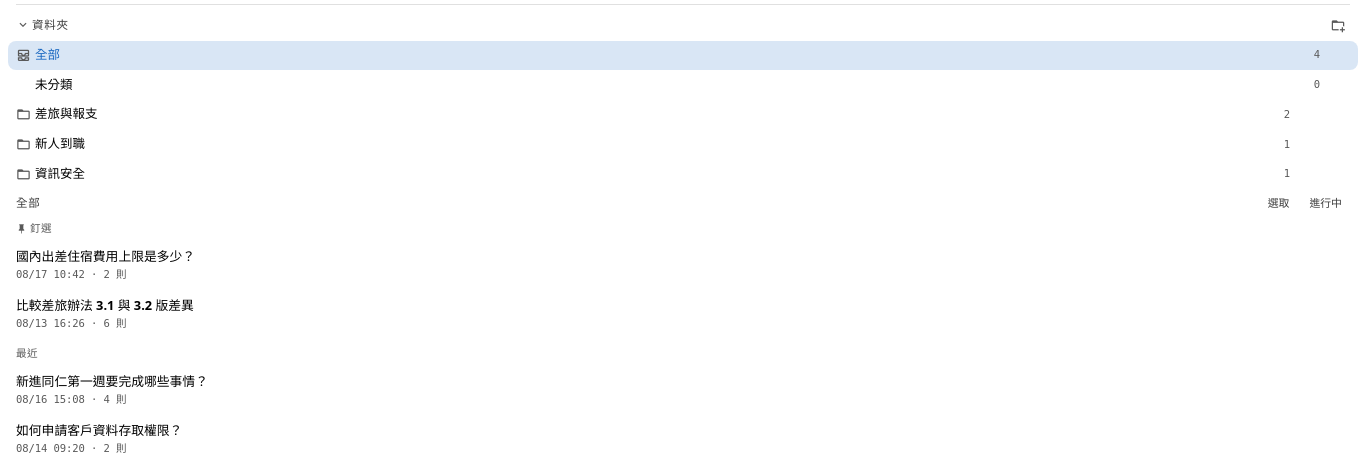
it: ConversationHistoryPanel › should narrow the conversation list to the selected folder
What coordinates should you click on to do the following:
click the button with class "folder-open" showing "新人到職 1"
I would click on:
 (60, 144)
Its box is [8,130,1298,159].
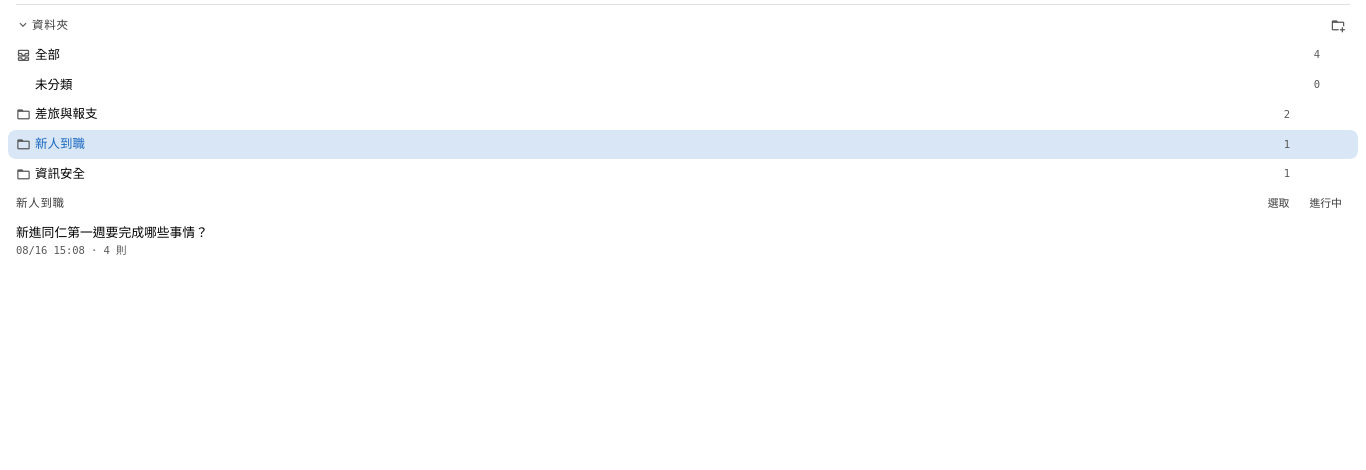
Expected: the text with class "history-title" reads "新進同仁第一週要完成哪些事情？", [16,223,208,241]
Expected: the number of list items with class "history-item" is 1, [8,217,1358,265]
